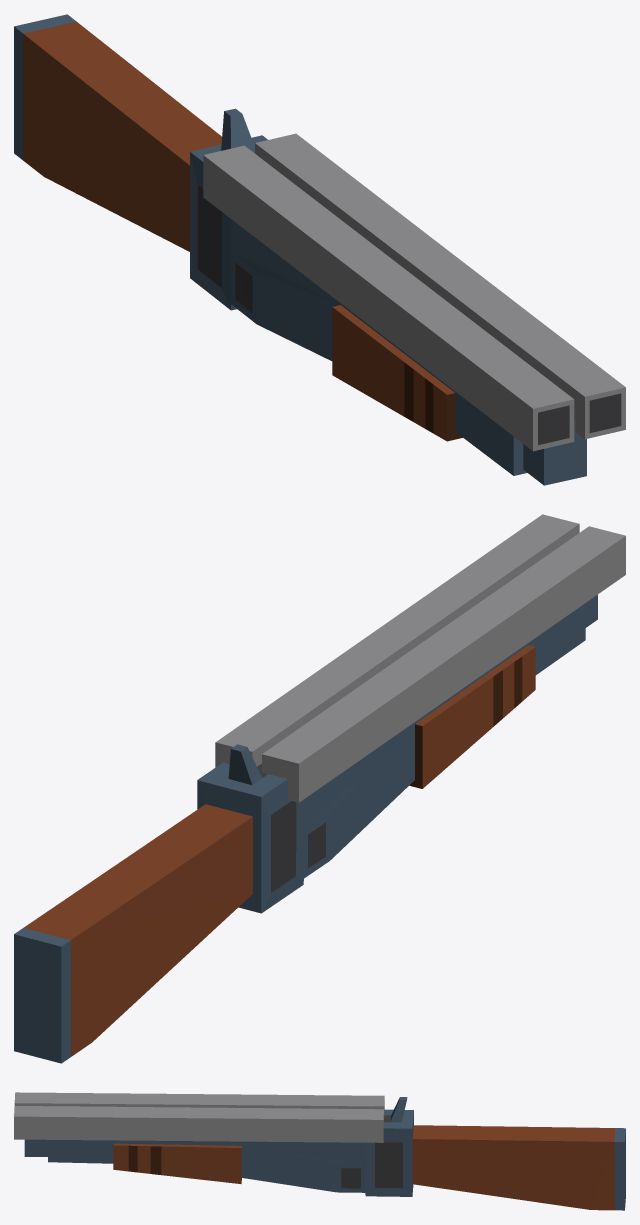
File: shotgun.obj
The picture shows the model from 3 angles, top to bottom: view 1: azimuth 30°, elevation 25°; view 2: azimuth 150°, elevation 25°; view 3: azimuth 270°, elevation 25°; orthographic projection. The views are drawn at different scales.
Visible parts, largest first — view 1: shotgun.obj; view 2: shotgun.obj; view 3: shotgun.obj.
Part boxes in pixels (x1=…): shotgun.obj: x1=14, y1=14, x2=625, y2=485; shotgun.obj: x1=14, y1=514, x2=625, y2=1063; shotgun.obj: x1=14, y1=1092, x2=625, y2=1210.
Bounding box in the file's own units: 0.1676 × 0.2895 × 1.58.
